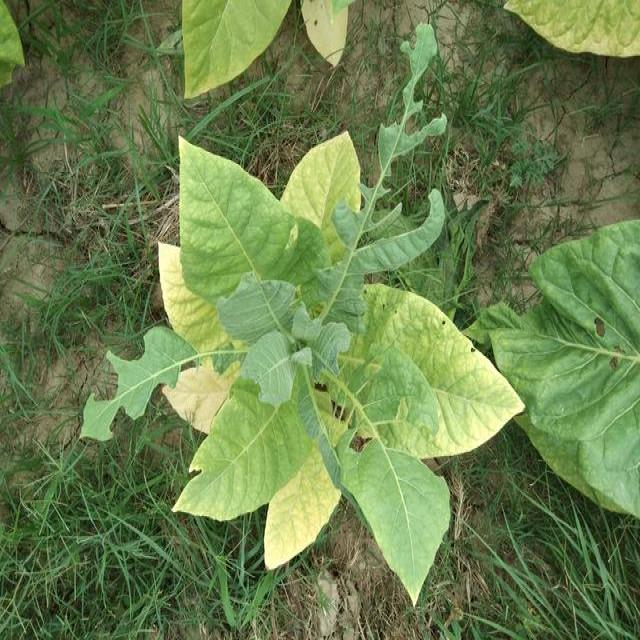crop: (153, 119, 525, 612)
